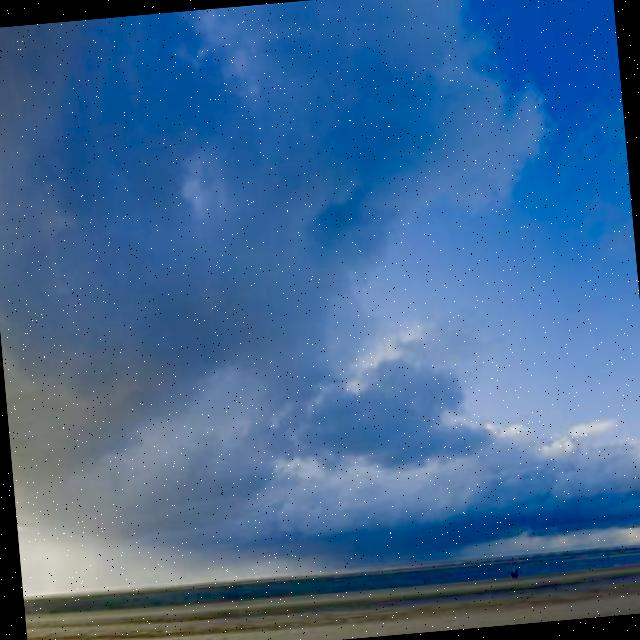Ns: (1, 1, 640, 582)
